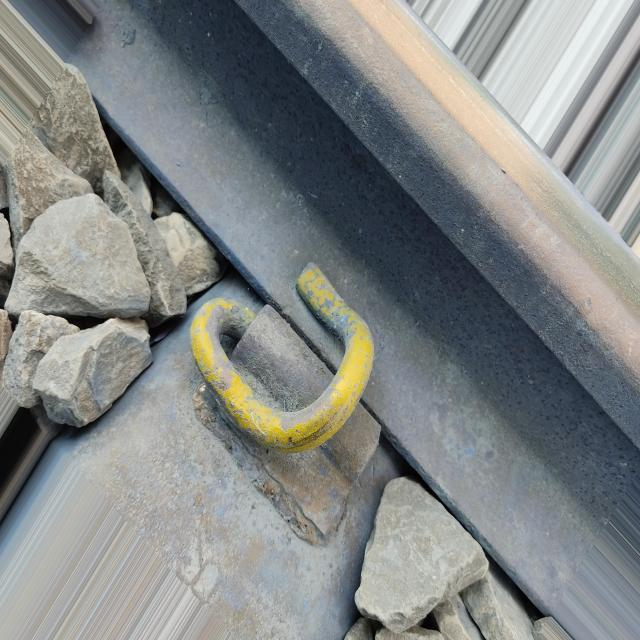Good Fasteners: (146, 233, 425, 574)
